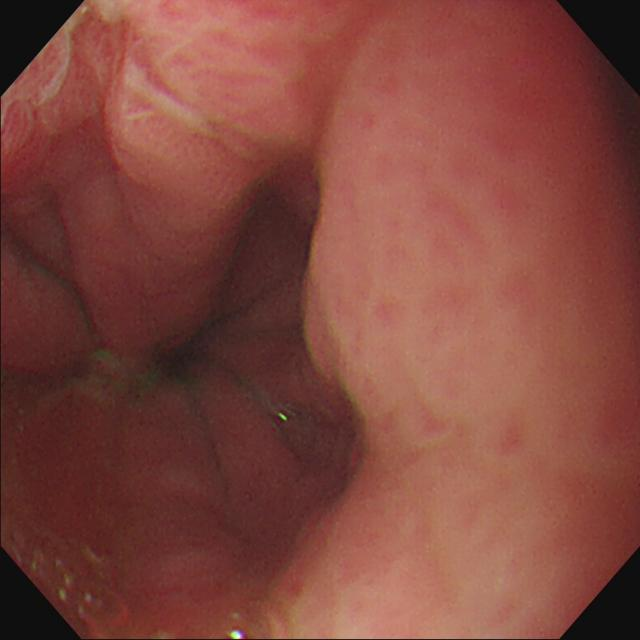A: (3, 15, 142, 163)
E: (141, 349, 205, 391)
U: (223, 623, 253, 640)
